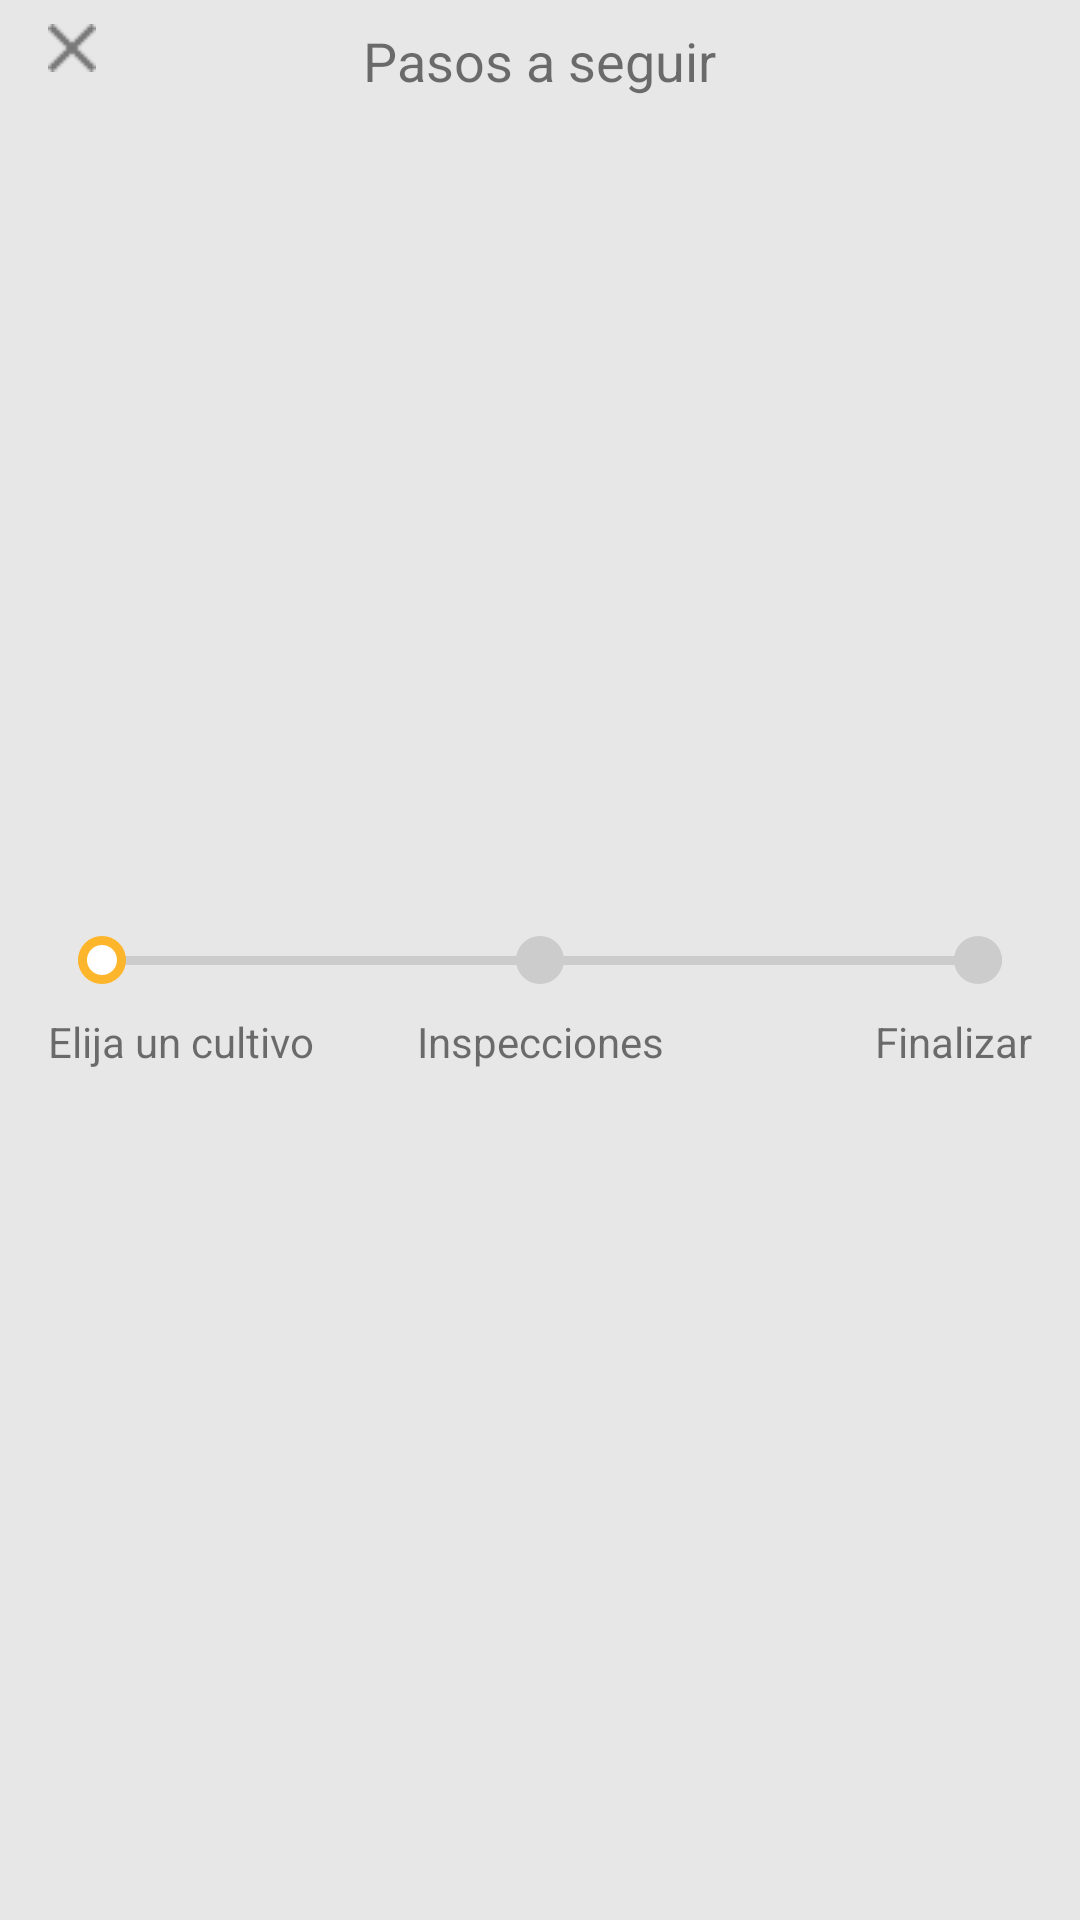

Where icons sit on this 1080px×1920px app screen, as box=[x1, y1, x2, y2]:
close: box=[48, 24, 96, 72]
